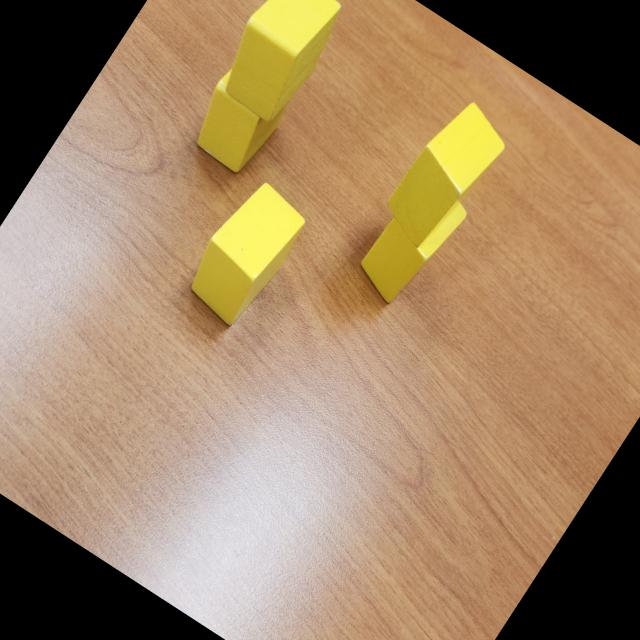yellow: (373, 92, 516, 259), (175, 173, 316, 334), (205, 0, 353, 127), (348, 172, 472, 313), (180, 56, 298, 180)
